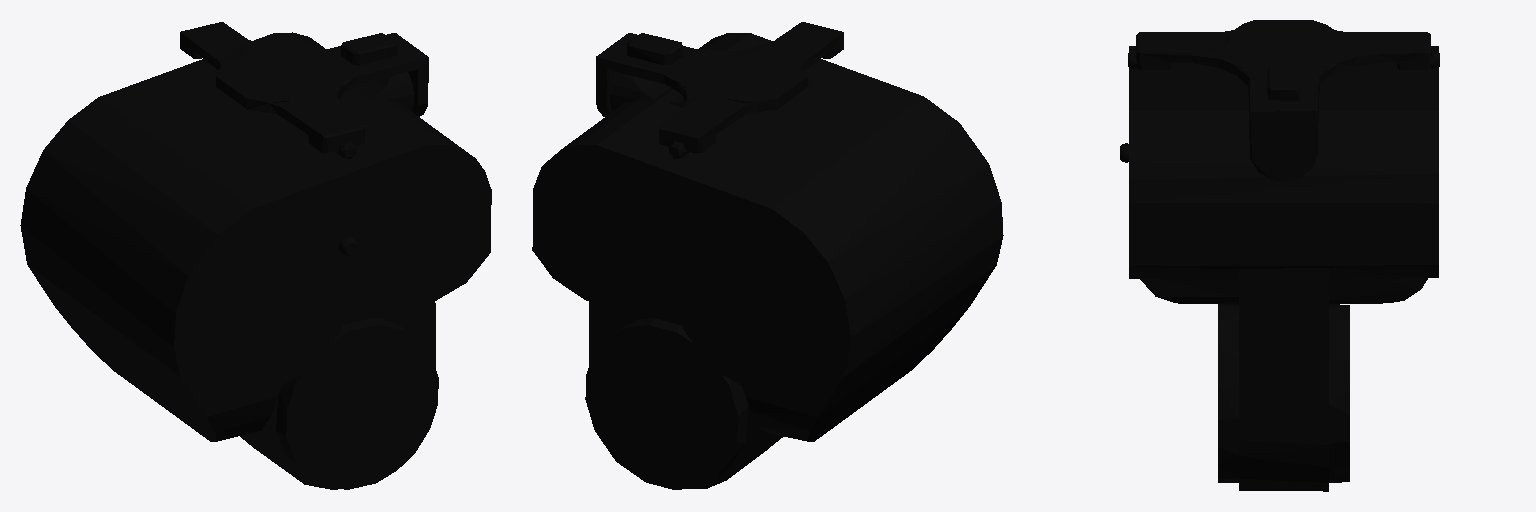
The robot description file, URDF, robot "igris_c_v2_parallel_waist":
<?xml version="1.0"?>
<robot name="igris_c_v2_parallel_waist">
  <!-- NOTE: (inverse joint order) In this model, the order of parallel joints are not the same with the full DoF model -->
  <link name="base_link">
    <inertial>
      <mass value="8.124" />
      <origin xyz="-0.0356 0.0 -0.09163" />
      <inertia ixx="0.04342" ixy="0.00001" ixz="0.00325" iyy="0.05156" iyz="0.00000" izz="0.04212" />
    </inertial>
    <visual>
      <origin xyz="-0.0115 0 -0.180"/>
      <geometry>
        <mesh filename="package://igris_c_description/meshes/igris_c_v2/Pelvis.stl" scale="0.01 0.01 0.01"/>
      </geometry>
      <material name="random">
        <color rgba="0.0706 0.0706 0.0706 0.7" />
      </material>
    </visual>
    <collision>
      <origin xyz="-0.0115 0 -0.180"/>
      <geometry>
        <mesh filename="package://igris_c_description/meshes/igris_c_v2/Pelvis.stl" scale="0.01 0.01 0.01"/>
      </geometry>
    </collision>
  </link>
 
  <link name="p_link_1">
    <inertial>
      <mass value="0.136" />
      <origin xyz="0.00000 0.00000 0.03171" />
      <inertia ixx="0.00005" ixy="0.00000" ixz="0.00000" iyy="0.00011" iyz="0.00000" izz="0.00007" />
    </inertial>
    <visual>
      <geometry>
        <mesh filename="package://igris_c_description/meshes/igris_c_v2/Waist_Pitch.stl" scale="0.01 0.01 0.01"/>
      </geometry>
      <material name="random">
        <color rgba="0.0706 0.0706 0.0706 0.7" />
      </material>
    </visual>
    <collision>
      <geometry>
        <mesh filename="package://igris_c_description/meshes/igris_c_v2/Waist_Pitch.stl" scale="0.01 0.01 0.01"/>
      </geometry>
    </collision>
  </link>

  <link name="p_link_2">
    <inertial>
      <mass value="0.208" />
      <origin xyz="-0.02403 0.00000 0.01673" />
      <inertia ixx="0.00031" ixy="0.00000" ixz="0.00003" iyy="0.00031" iyz="0.00000" izz="0.00058" />
    </inertial>
    <visual>
      <geometry>
        <mesh filename="package://igris_c_description/meshes/igris_c_v2/Waist_Roll.stl" scale="0.01 0.01 0.01"/>
      </geometry>
      <material name="random">
        <color rgba="0.0706 0.0706 0.0706 0.7" />
      </material>
    </visual>
    <collision>
      <geometry>
        <mesh filename="package://igris_c_description/meshes/igris_c_v2/Waist_Roll.stl" scale="0.01 0.01 0.01"/>
      </geometry>
    </collision>
  </link>

  <link name="motor_1_output">
    <inertial>
      <mass value="0.043" />
      <origin xyz="-0.01470 -0.00883 -0.00167" />
      <inertia ixx="0.00001" ixy="0.00000" ixz="0.00000" iyy="0.00004" iyz="0.00000" izz="0.00003" />
    </inertial>
    <visual>
      <geometry>
        <mesh filename="package://igris_c_description/meshes/igris_c_v2/Waist_Flange_Left.stl" scale="0.01 0.01 0.01"/>
      </geometry>
      <material name="random">
        <color rgba="0.0706 0.0706 0.0706 0.7" />
      </material>
    </visual>
    <collision>
      <geometry>
        <mesh filename="package://igris_c_description/meshes/igris_c_v2/Waist_Flange_Left.stl" scale="0.01 0.01 0.01"/>
      </geometry>
    </collision>
  </link>

  <link name="motor_2_output">
    <inertial>
      <mass value="0.043" />
      <origin xyz="-0.01470 0.00883 -0.00167" />
      <inertia ixx="0.00001" ixy="0.00000" ixz="0.00000" iyy="0.00004" iyz="0.00000" izz="0.00003" />
    </inertial>
    <visual>
      <geometry>
        <mesh filename="package://igris_c_description/meshes/igris_c_v2/Waist_Flange_Right.stl" scale="0.01 0.01 0.01"/>
      </geometry>
      <material name="random">
        <color rgba="0.0706 0.0706 0.0706 0.7" />
      </material>
    </visual>
    <collision>
      <geometry>
        <mesh filename="package://igris_c_description/meshes/igris_c_v2/Waist_Flange_Right.stl" scale="0.01 0.01 0.01"/>
      </geometry>
    </collision>
  </link>

  <joint name="joint_1" type="revolute">
    <parent link="base_link" />
    <child link="p_link_1" />
    <origin xyz="0 0 -0.04" rpy="0 0 0" />
    <axis xyz="0 -1 0" />
    <limit lower="-0.872664626" upper="0.287979" effort="1000" velocity="100.0" />
  </joint>
 
  <joint name="joint_2" type="revolute">
    <parent link="p_link_1" />
    <child link="p_link_2" />
    <origin xyz="0 0 0.04" rpy="0 0 0" />
    <axis xyz="-1 0 0" />
    <limit lower="-0.31" upper="0.31" effort="1000" velocity="100.0" />
  </joint>


  <joint name="motor_1" type="revolute">
    <parent link="base_link" />
    <child link="motor_1_output" />
    <origin xyz="0.0 0.09050 -0.04" rpy="0 0 0" />
    <axis xyz="0 1 0" />
    <limit lower="-0.34906585" upper="0.872664626" effort="1000" velocity="100.0" />
  </joint>


  <joint name="motor_2" type="revolute">
    <parent link="base_link" />
    <child link="motor_2_output" />
    <origin xyz="0.0 -0.09050 -0.04" rpy="0 0 0" />
    <axis xyz="0 1 0" />
    <limit lower="-0.34906585" upper="0.872664626" effort="1000" velocity="100.0" />
  </joint>

</robot>

--- Facts derived from the render (not from the file) ---
3 views of the same robot in one strip: view 1: azimuth 30°, elevation 25°; view 2: azimuth 150°, elevation 25°; view 3: azimuth 270°, elevation 25° (orthographic).
Robot: igris_c_v2_parallel_waist — 5 links, 4 joints (4 revolute); root link base_link; default pose: all joints at 0.
Visible links, largest first — view 1: base_link, p_link_2, p_link_1; view 2: base_link, p_link_2, p_link_1; view 3: base_link, p_link_2.
Link boxes in pixels (x1=…): base_link: x1=20, y1=32, x2=491, y2=489; p_link_2: x1=180, y1=22, x2=428, y2=158; p_link_1: x1=339, y1=72, x2=413, y2=111; base_link: x1=532, y1=33, x2=1003, y2=489; p_link_2: x1=596, y1=22, x2=843, y2=158; p_link_1: x1=610, y1=72, x2=685, y2=111; base_link: x1=1129, y1=46, x2=1438, y2=491; p_link_2: x1=1128, y1=20, x2=1439, y2=181.
Size in the robot's own frame: 0.2141 by 0.1845 by 0.2697 metres.
Meshes: 5 distinct files referenced, 4 mesh visuals loaded (4 binary STL); not drawn: 1 (reference not matched to a file when rendering).
